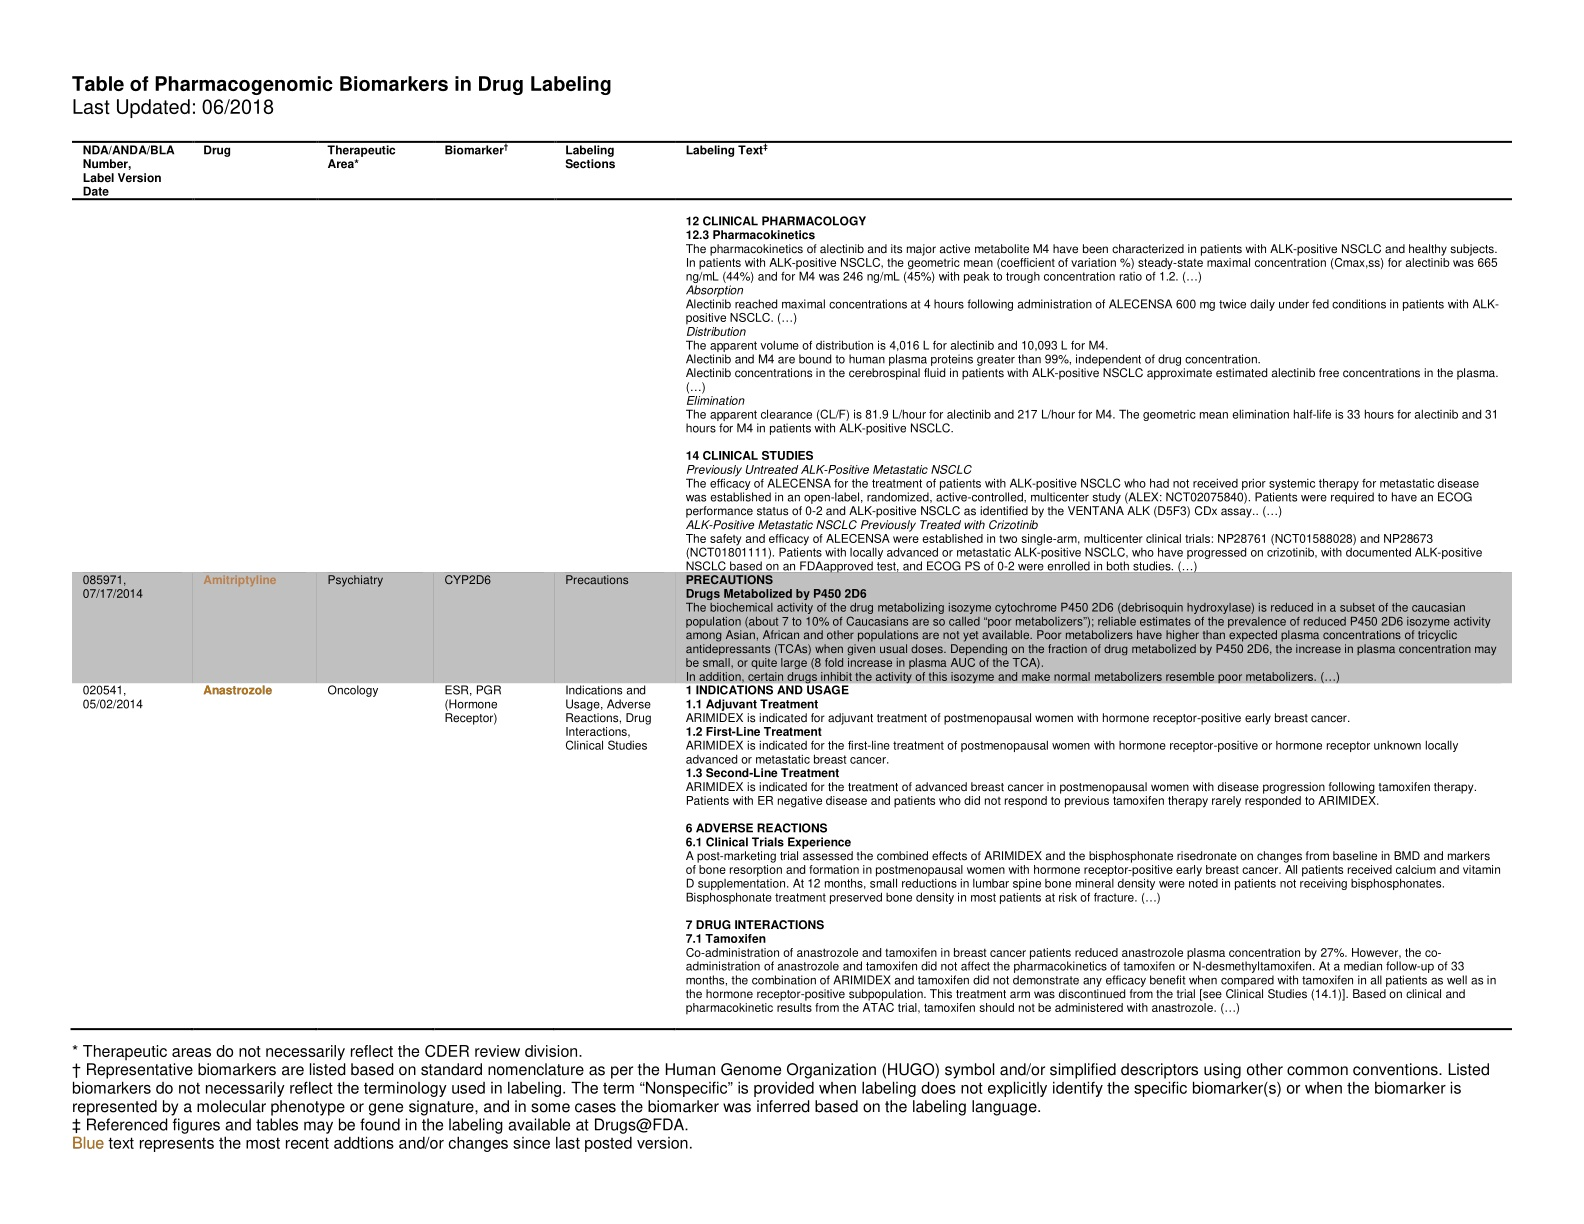partial_lined: (69, 139, 1515, 1032)
